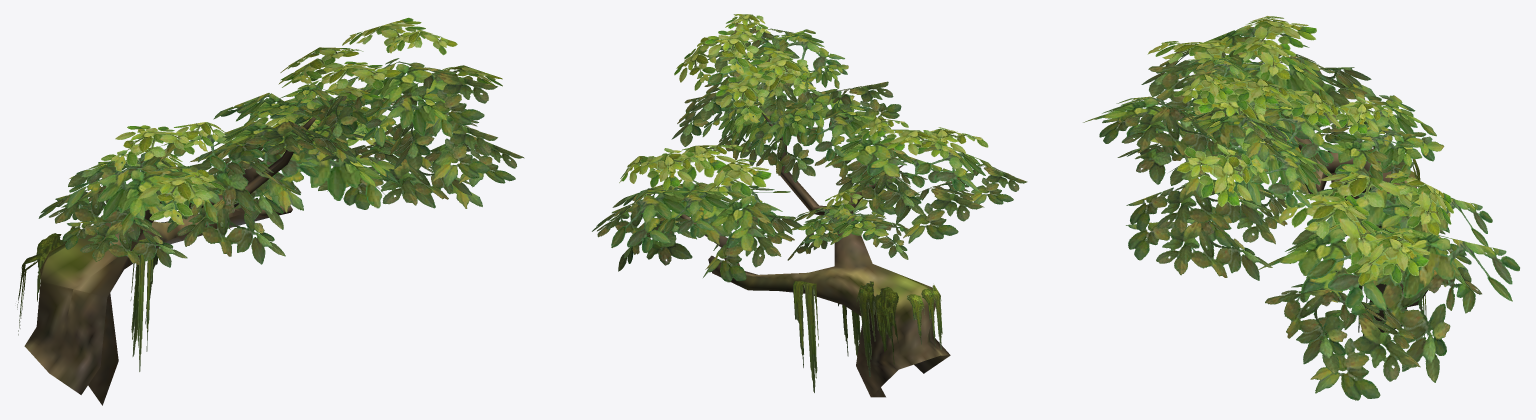
Rendered from S_Tree_Green132_H1.FBX.
3 views of the same model, side by side, from view 1: azimuth 30°, elevation 25°; view 2: azimuth 150°, elevation 25°; view 3: azimuth 270°, elevation 25° (orthographic). The views are drawn at different scales.
Visible parts, largest first — view 1: S_Tree_Green132_H1_2, S_Tree_Green132_H1_1; view 2: S_Tree_Green132_H1_2, S_Tree_Green132_H1_1; view 3: S_Tree_Green132_H1_2, S_Tree_Green132_H1_1.
Boxes of the visible parts, x1=… form: S_Tree_Green132_H1_2: x1=17, y1=17, x2=524, y2=371; S_Tree_Green132_H1_1: x1=24, y1=98, x2=332, y2=405; S_Tree_Green132_H1_2: x1=592, y1=14, x2=1027, y2=392; S_Tree_Green132_H1_1: x1=680, y1=112, x2=950, y2=397; S_Tree_Green132_H1_2: x1=1083, y1=16, x2=1519, y2=400; S_Tree_Green132_H1_1: x1=1284, y1=136, x2=1427, y2=335.
Size of the model in its own units: 1990 by 1450 by 1474.
Materials: 2 (2 with a texture image).
